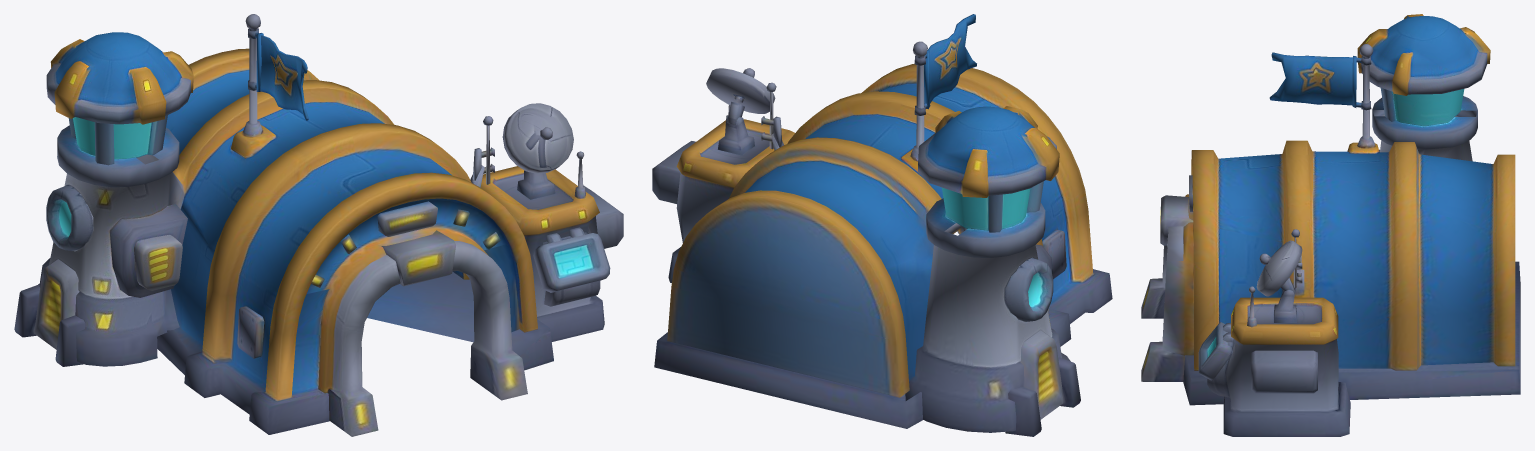
Rendered from barracks_3.glb.
3 renders of one model, left to right at view 1: azimuth 30°, elevation 25°; view 2: azimuth 150°, elevation 25°; view 3: azimuth 270°, elevation 25°, orthographic. The views are drawn at different scales.
Visible parts, largest first — view 1: tripo_node_6034fb7b-6445-4b67-b2ff-f1235fe8151f; view 2: tripo_node_6034fb7b-6445-4b67-b2ff-f1235fe8151f; view 3: tripo_node_6034fb7b-6445-4b67-b2ff-f1235fe8151f.
Boxes of the visible parts, bbox=[...] form: tripo_node_6034fb7b-6445-4b67-b2ff-f1235fe8151f: bbox=[14, 14, 623, 436]; tripo_node_6034fb7b-6445-4b67-b2ff-f1235fe8151f: bbox=[652, 14, 1112, 436]; tripo_node_6034fb7b-6445-4b67-b2ff-f1235fe8151f: bbox=[1141, 14, 1520, 436].
Size of the model in its own units: 4.2 by 2.65 by 3.29.
Materials: 1 (1 with a texture image).
